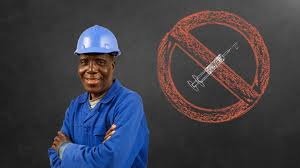Person_wearing_helmet: (69, 20, 124, 68)
